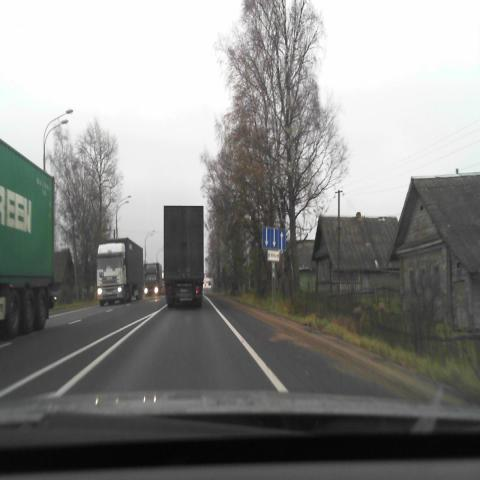5_15_7: (262, 226, 286, 250)
